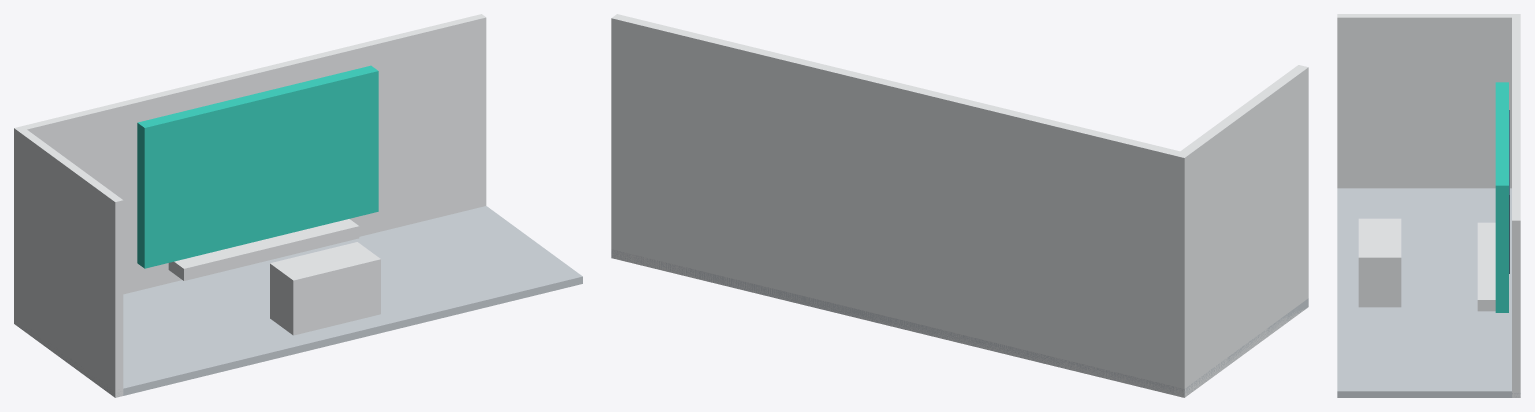
The picture shows the model from 3 angles, left to right: view 1: azimuth 30°, elevation 25°; view 2: azimuth 150°, elevation 25°; view 3: azimuth 270°, elevation 25°; orthographic projection. The views are drawn at different scales.
Visible parts, largest first — view 1: Exhibition Booth Concept; view 2: Exhibition Booth Concept; view 3: Exhibition Booth Concept.
Boxes of the visible parts, x1,y1,x2,y2 form: Exhibition Booth Concept: (14, 14, 582, 397); Exhibition Booth Concept: (611, 14, 1308, 397); Exhibition Booth Concept: (1337, 14, 1520, 397).
Size of the model in its own units: 8 by 3.2 by 3.
